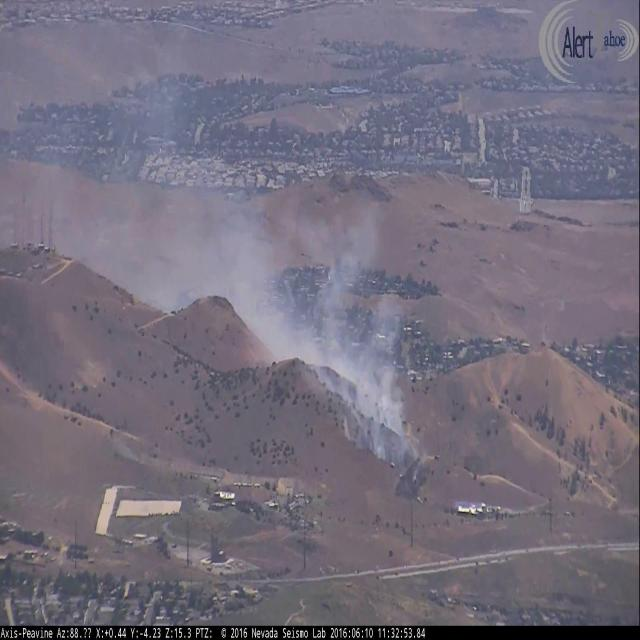smoke: (42, 53, 433, 490)
